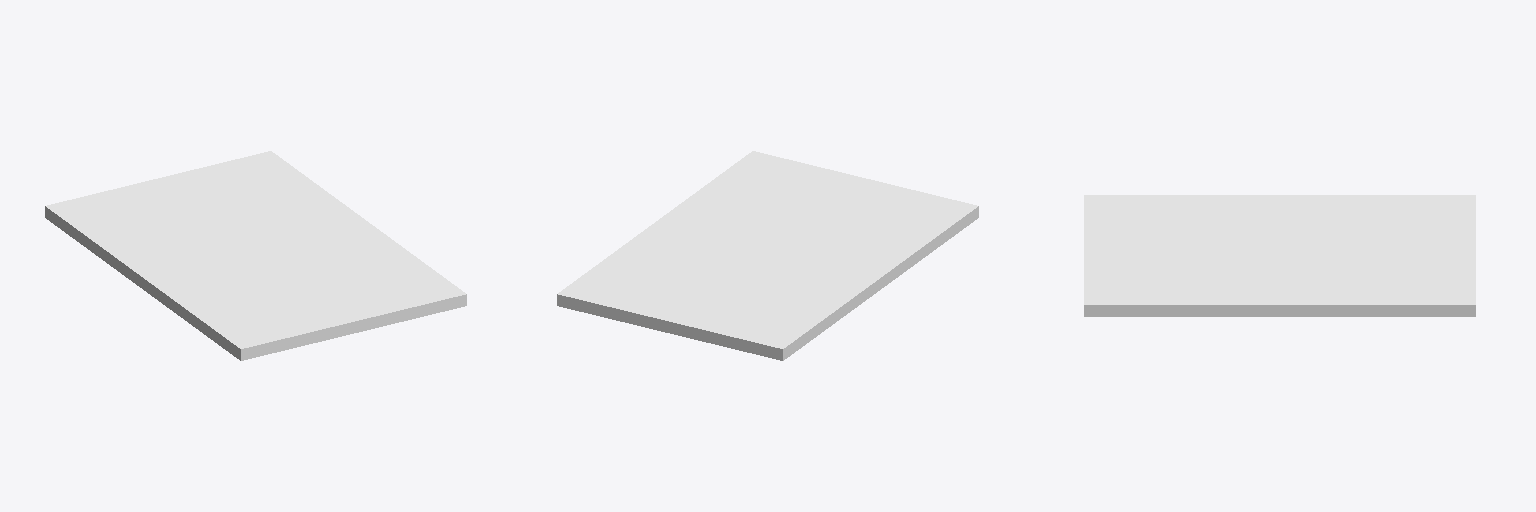
The model's file is tapis_moderne.obj.
The picture shows the model from 3 angles: view 1: azimuth 30°, elevation 25°; view 2: azimuth 150°, elevation 25°; view 3: azimuth 270°, elevation 25°; orthographic projection.
Visible parts, largest first — view 1: tapis_moderne; view 2: tapis_moderne; view 3: tapis_moderne.
Boxes of the visible parts, x1,y1,x2,y2 form: tapis_moderne: [45, 151, 466, 360]; tapis_moderne: [557, 151, 978, 360]; tapis_moderne: [1084, 195, 1475, 316].
Size of the model in its own units: 20 by 1 by 30.